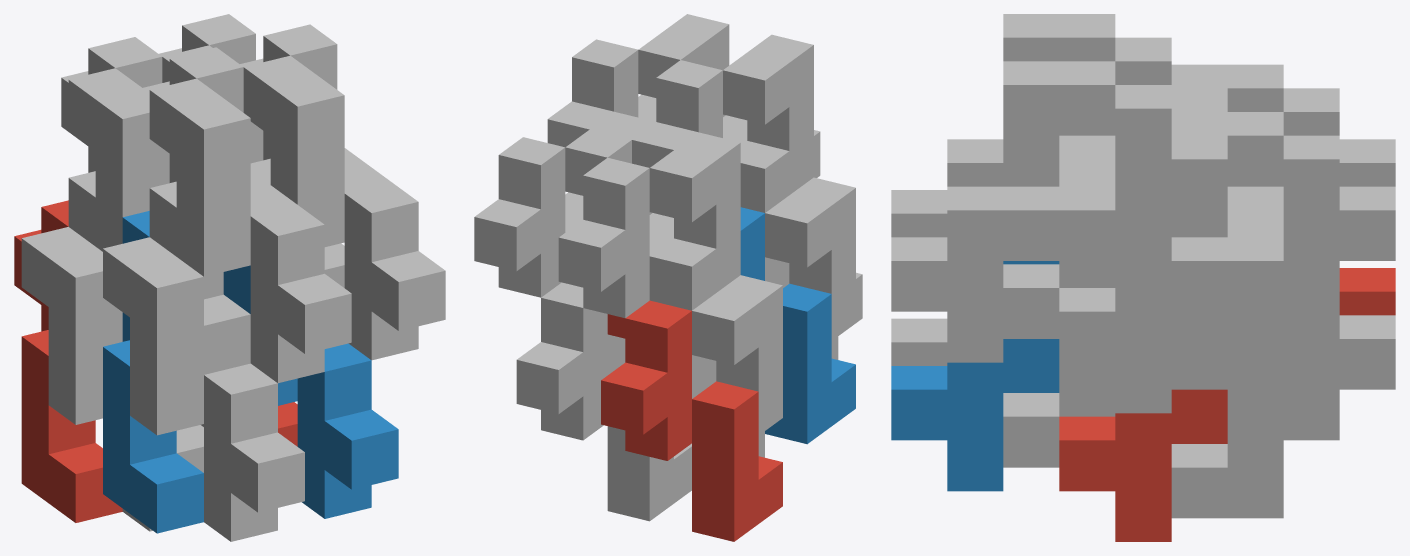
The model's file is tiling.obj.
3 renders of one model, left to right at view 1: azimuth 30°, elevation 25°; view 2: azimuth 150°, elevation 25°; view 3: azimuth 270°, elevation 25°, orthographic. The views are drawn at different scales.
Parts seen in each view (by area): view 1: copy_2_domain_4, copy_2_domain_2, copy_2_domain_8, copy_2_domain_6, copy_2_domain_1, copy_1_domain_2, copy_1_domain_1, copy_2_domain_3, copy_1_domain_4, copy_1_domain_3, copy_1_domain_8, copy_1_domain_7 (+2 smaller); view 2: copy_1_domain_1, copy_1_domain_3, copy_1_domain_5, copy_1_domain_7, copy_1_domain_2, copy_2_domain_4, copy_2_domain_2, copy_2_domain_3, copy_1_domain_4, copy_2_domain_1, copy_1_domain_8, copy_2_domain_8 (+1 smaller); view 3: copy_2_domain_8, copy_1_domain_7, copy_1_domain_8, copy_2_domain_7, copy_1_domain_5, copy_2_domain_6, copy_2_domain_5, copy_2_domain_4, copy_1_domain_6, copy_1_domain_3, copy_1_domain_4, copy_2_domain_3 (+2 smaller).
Boxes of the visible parts, x1=… form: copy_2_domain_4: x1=149, y1=78, x2=351, y2=383; copy_2_domain_2: x1=103, y1=237, x2=304, y2=541; copy_2_domain_8: x1=243, y1=55, x2=445, y2=360; copy_2_domain_6: x1=223, y1=265, x2=398, y2=518; copy_2_domain_1: x1=21, y1=227, x2=203, y2=531; copy_1_domain_2: x1=103, y1=211, x2=203, y2=533; copy_1_domain_1: x1=14, y1=200, x2=122, y2=522; copy_2_domain_3: x1=68, y1=68, x2=169, y2=251; copy_1_domain_4: x1=143, y1=47, x2=269, y2=374; copy_1_domain_3: x1=61, y1=37, x2=162, y2=246; copy_1_domain_8: x1=240, y1=24, x2=363, y2=184; copy_1_domain_7: x1=159, y1=14, x2=255, y2=63; copy_1_domain_1: x1=601, y1=300, x2=782, y2=541; copy_1_domain_3: x1=558, y1=157, x2=716, y2=398; copy_1_domain_5: x1=516, y1=282, x2=691, y2=521; copy_1_domain_7: x1=474, y1=137, x2=625, y2=374; copy_1_domain_2: x1=740, y1=207, x2=855, y2=444; copy_2_domain_4: x1=723, y1=34, x2=820, y2=194; copy_2_domain_2: x1=765, y1=177, x2=862, y2=359; copy_2_domain_3: x1=649, y1=132, x2=740, y2=292; copy_1_domain_4: x1=632, y1=60, x2=789, y2=287; copy_2_domain_1: x1=692, y1=275, x2=782, y2=457; copy_1_domain_8: x1=547, y1=39, x2=656, y2=147; copy_2_domain_8: x1=638, y1=14, x2=729, y2=118; copy_2_domain_8: x1=891, y1=61, x2=1115, y2=362; copy_1_domain_7: x1=1171, y1=135, x2=1395, y2=389; copy_1_domain_8: x1=1003, y1=85, x2=1227, y2=338; copy_2_domain_7: x1=1059, y1=112, x2=1283, y2=413; copy_1_domain_5: x1=1171, y1=311, x2=1395, y2=518; copy_2_domain_6: x1=891, y1=261, x2=1059, y2=491; copy_2_domain_5: x1=1059, y1=389, x2=1227, y2=541; copy_2_domain_4: x1=891, y1=14, x2=1115, y2=237; copy_1_domain_6: x1=1003, y1=311, x2=1227, y2=467; copy_1_domain_3: x1=1227, y1=88, x2=1395, y2=213; copy_1_domain_4: x1=1059, y1=37, x2=1227, y2=162; copy_2_domain_3: x1=1171, y1=64, x2=1283, y2=111.
Bounding box in the file's own units: 5 × 9 × 9.
